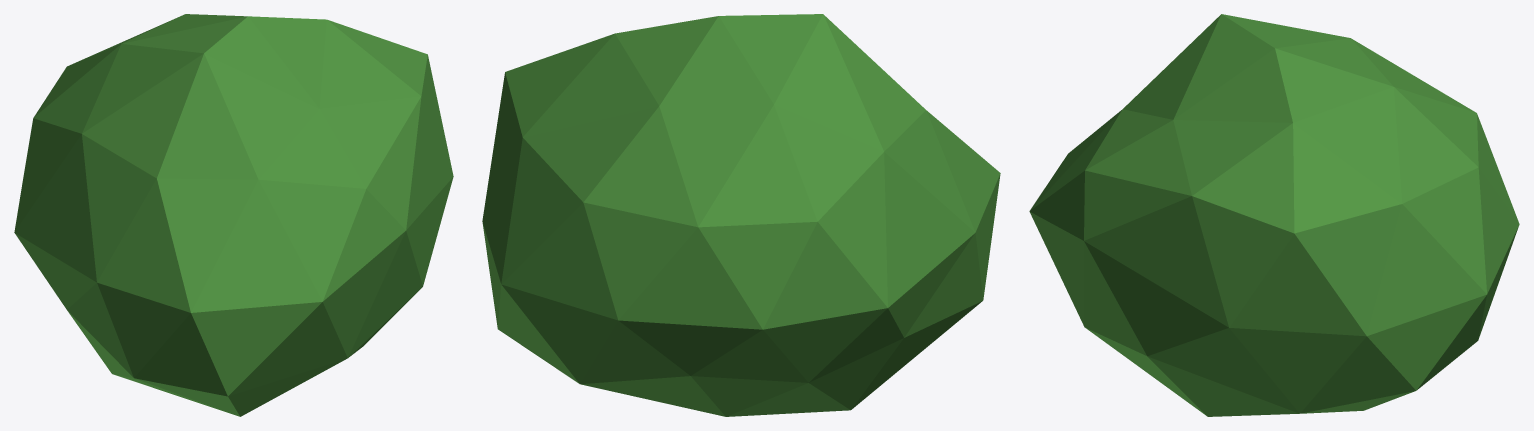
Rendered from bush_simple.fbx.
3 renders of one model, left to right at view 1: azimuth 30°, elevation 25°; view 2: azimuth 150°, elevation 25°; view 3: azimuth 270°, elevation 25°, orthographic. The views are drawn at different scales.
Parts seen in each view (by area): view 1: bush_simple_LOD0; view 2: bush_simple_LOD0; view 3: bush_simple_LOD0.
Boxes of the visible parts, x1=… form: bush_simple_LOD0: x1=14, y1=14, x2=453, y2=416; bush_simple_LOD0: x1=482, y1=14, x2=1000, y2=416; bush_simple_LOD0: x1=1029, y1=14, x2=1519, y2=416.
Size of what is drawn, in the model's own units: 161 by 132 by 176.
